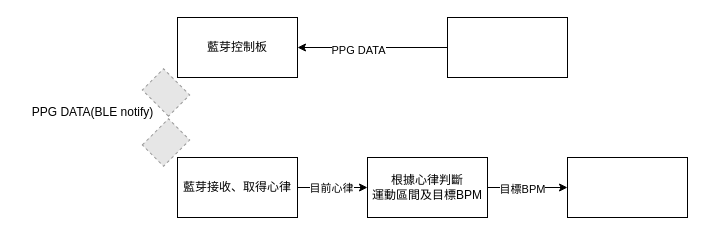
Some shapes in this 705 by 235 pixel diagram are drawn without their labels. Grey dashed boxes stand in for pictures. The shapes that lost their labels are listed below. From the top down, each one's centre as x and y in pixels, then its label:
pixel 507 47: PPG 感測器、 加速度感測器
pixel 627 187: 根據BPM撥放 合適的歌區
